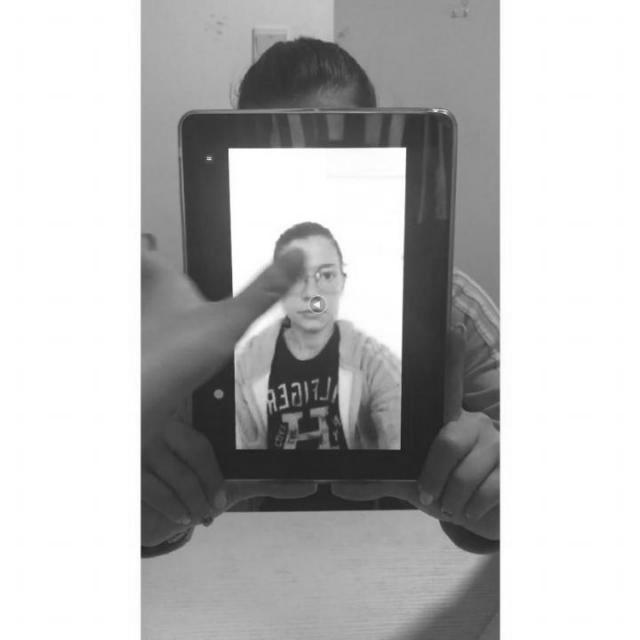fake: (169, 104, 463, 485)
